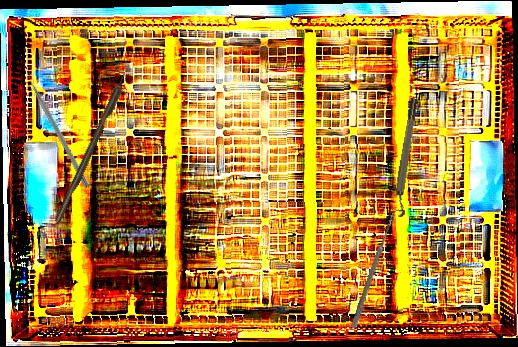Fixation Ring: (387, 97, 426, 218)
Hook Surgical: (53, 65, 133, 224)
Pusher: (21, 66, 92, 189)
Surgical Spoon: (350, 210, 397, 330)
